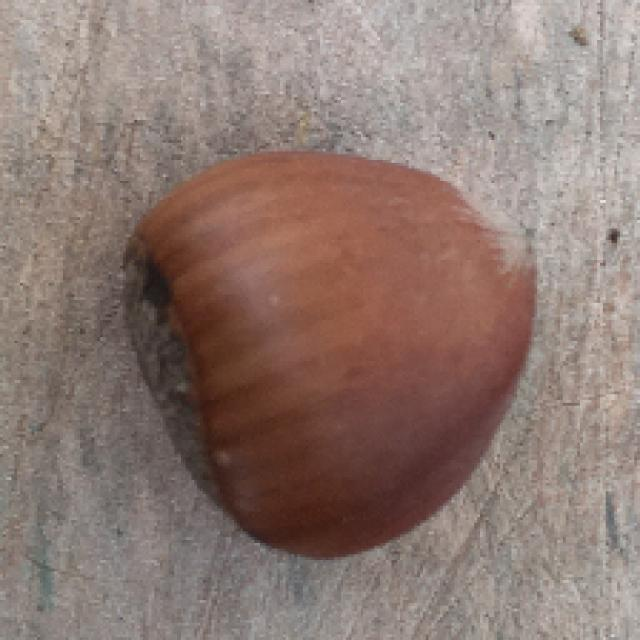qualityHazelnut: (106, 126, 556, 566)
